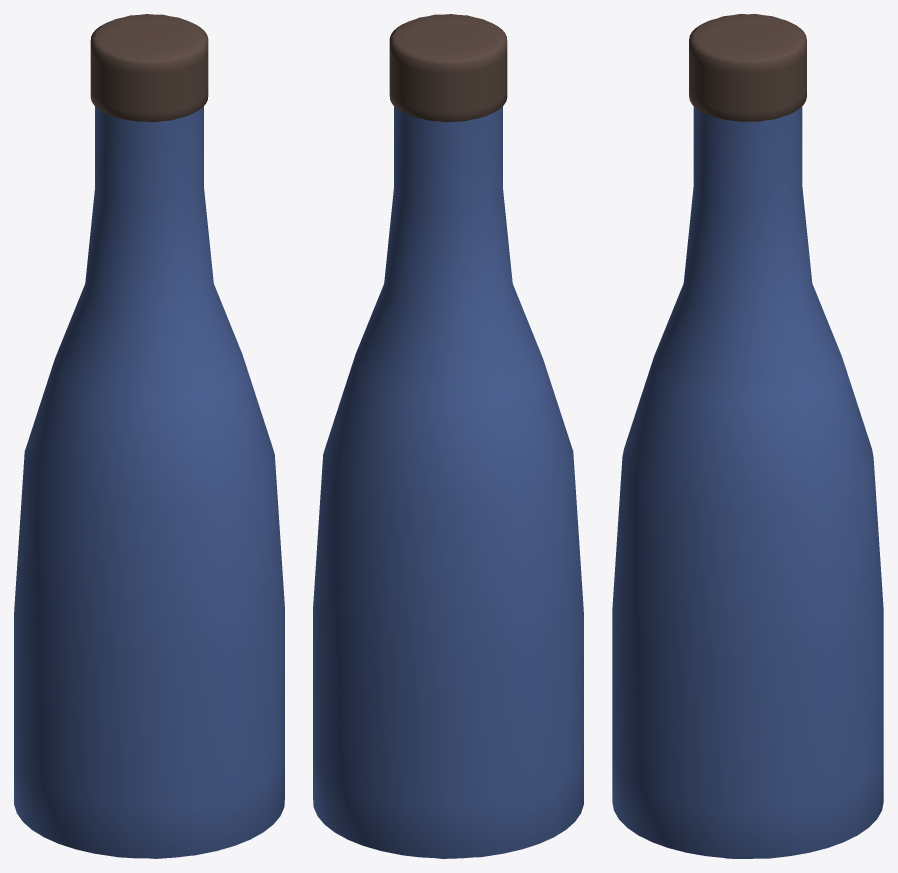
File: smoothbottle.fbx
3 views of the same model, side by side, from view 1: azimuth 30°, elevation 25°; view 2: azimuth 150°, elevation 25°; view 3: azimuth 270°, elevation 25° (orthographic).
Parts seen in each view (by area): view 1: pCylinder15, pCylinder16; view 2: pCylinder15, pCylinder16; view 3: pCylinder15, pCylinder16.
Boxes of the visible parts, left/top/right/bottom form: pCylinder15: left=14, top=106, right=284, bottom=858; pCylinder16: left=90, top=14, right=208, bottom=122; pCylinder15: left=313, top=106, right=583, bottom=858; pCylinder16: left=389, top=14, right=507, bottom=122; pCylinder15: left=612, top=106, right=883, bottom=858; pCylinder16: left=689, top=14, right=806, bottom=121.
Size of the model in its own units: 198 by 621 by 198.
